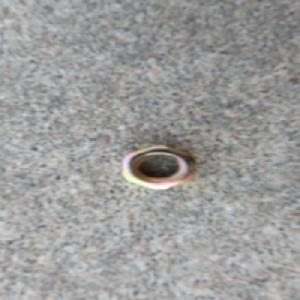Nut: (119, 145, 197, 193)
